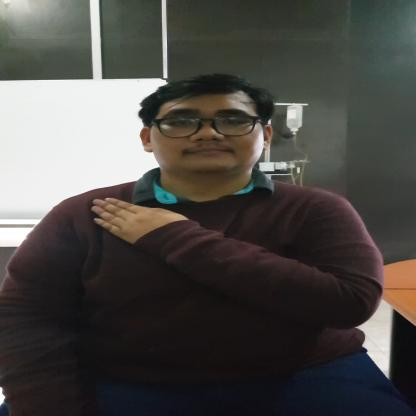Saya: (91, 196, 216, 258)
